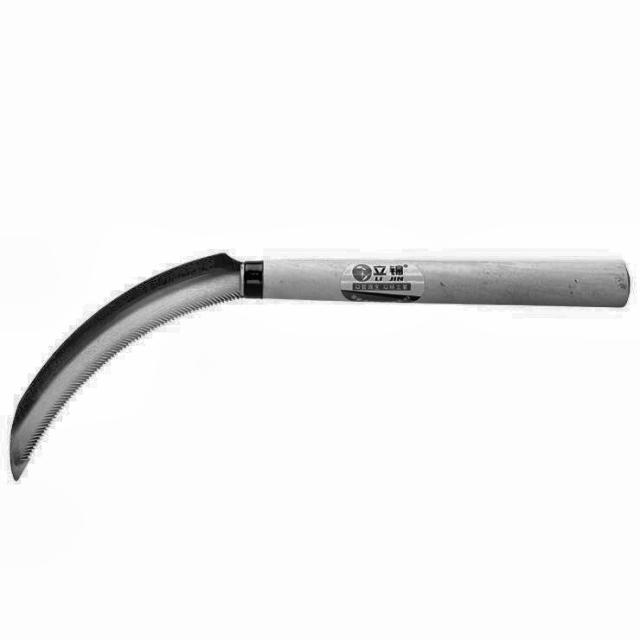celurit: (6, 243, 631, 486)
